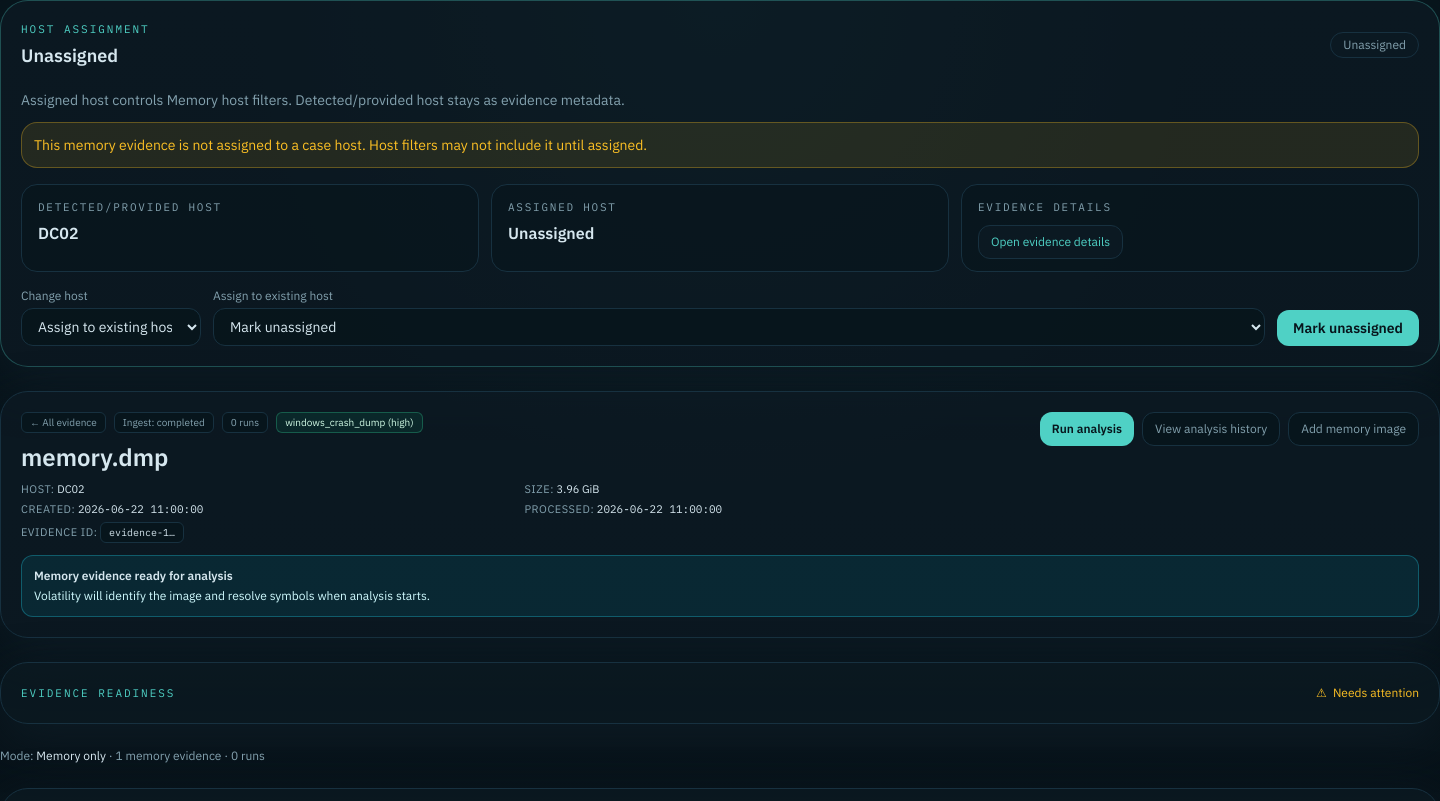
it: Automatic Windows symbol preparation › 11. accessible role/region for the preparation card
The image size is (1440, 801).
Step 1. Click the text "Evidence readiness" → (98,692), box [21,682,176,702]
(page scrolled)
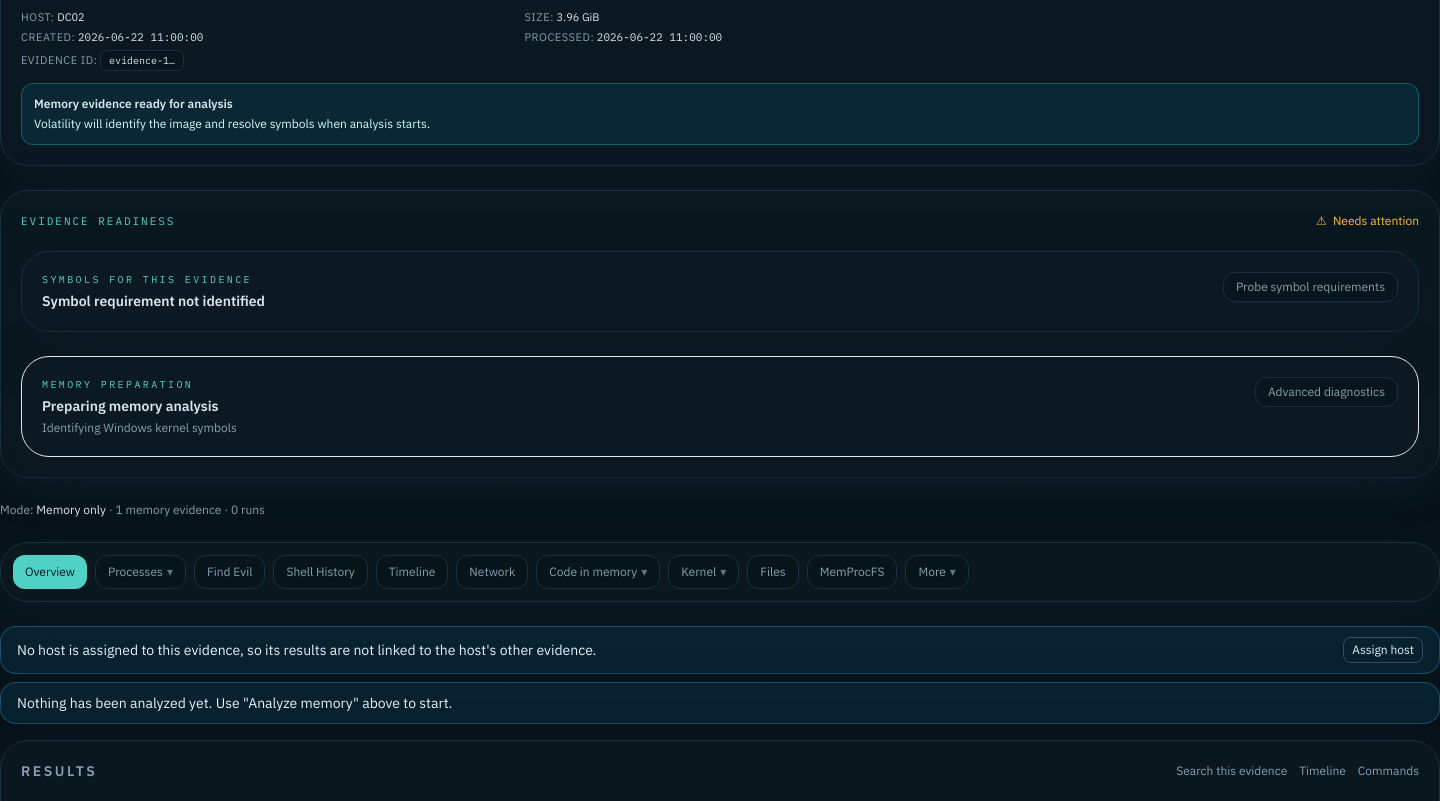
Expected: the element with test id "memory-preparation-card" is shown, [21,356,1419,456]
Expected: the text "Preparing memory analysis" is shown, [42,396,237,416]
